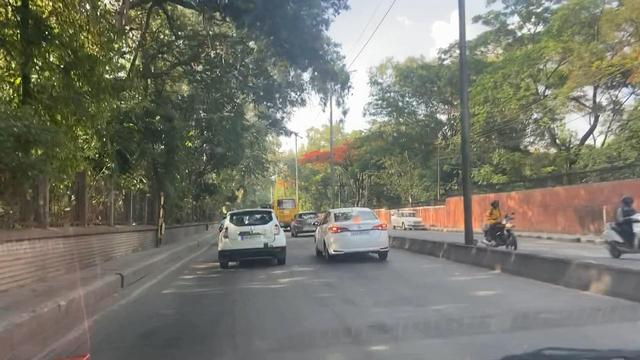LMV: (221, 209, 287, 265), (321, 211, 385, 257), (292, 210, 316, 235)
